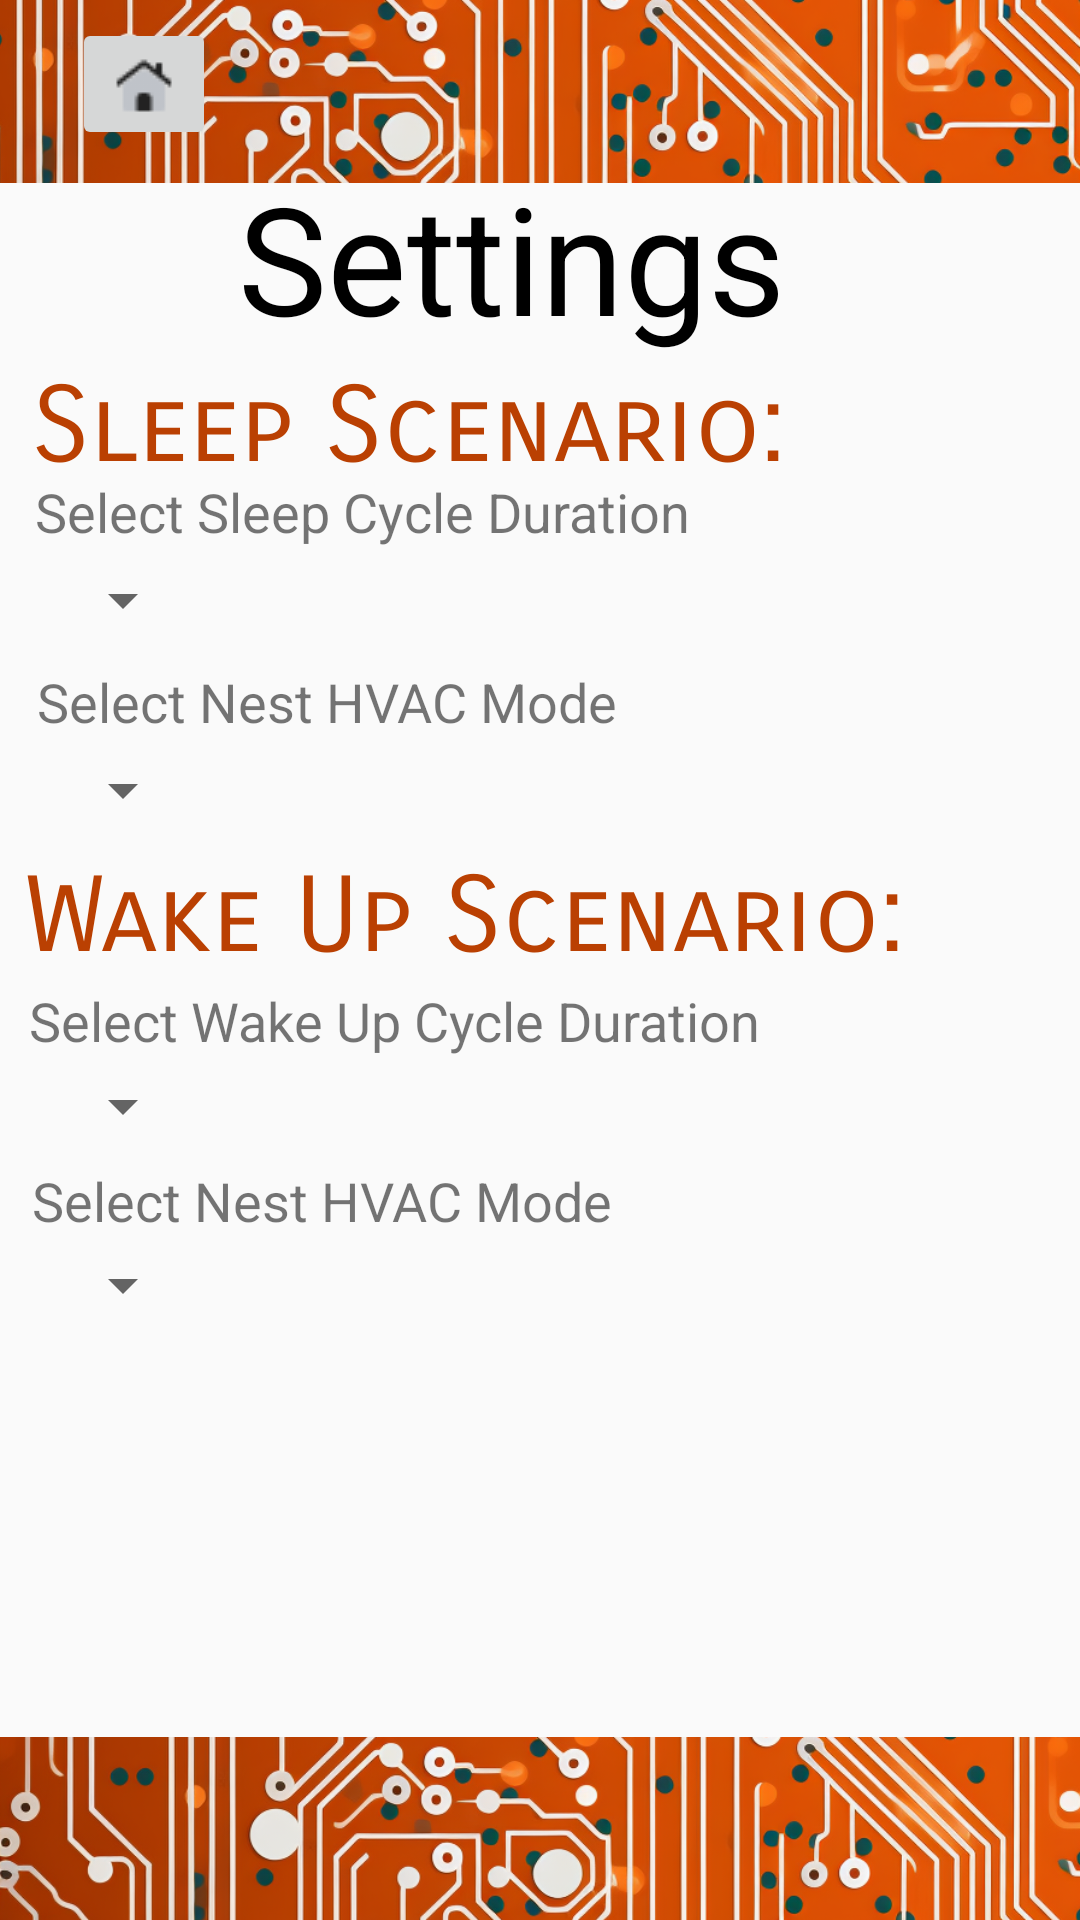

Screen size 1080px x 1920px. Icon name, then its box in pixels as (x1, y1, x2, y2):
home duotone: (77, 18, 216, 150)
